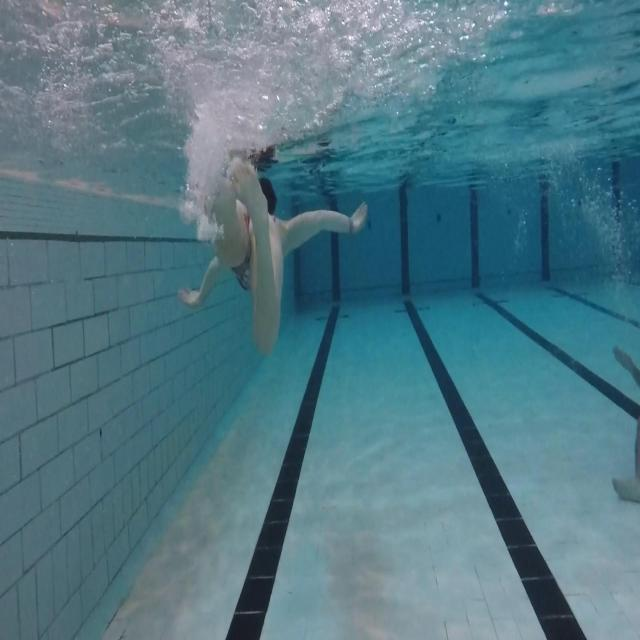human: (177, 142, 368, 357)
